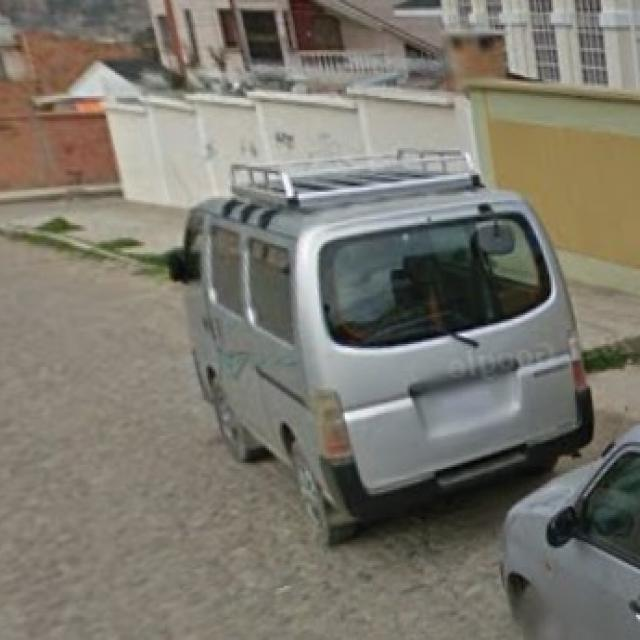car: (172, 157, 572, 534), (500, 423, 640, 639)
